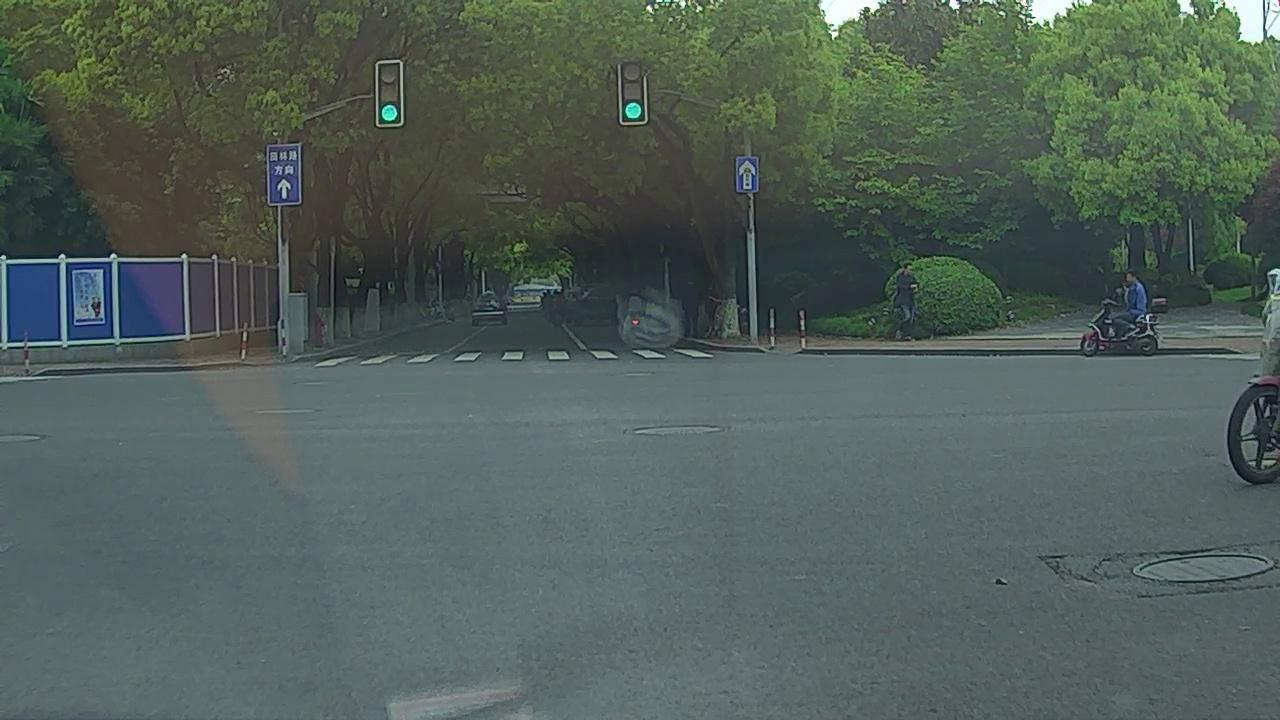traffic_light: (622, 60, 645, 121), (378, 62, 400, 125)
